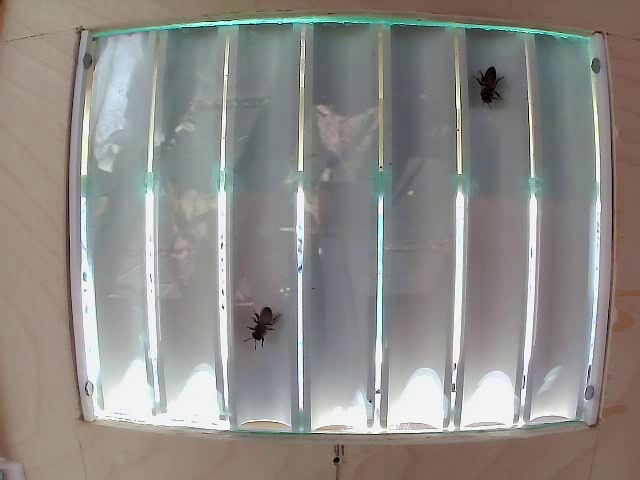bee: (240, 293, 283, 354), (470, 63, 499, 116)
